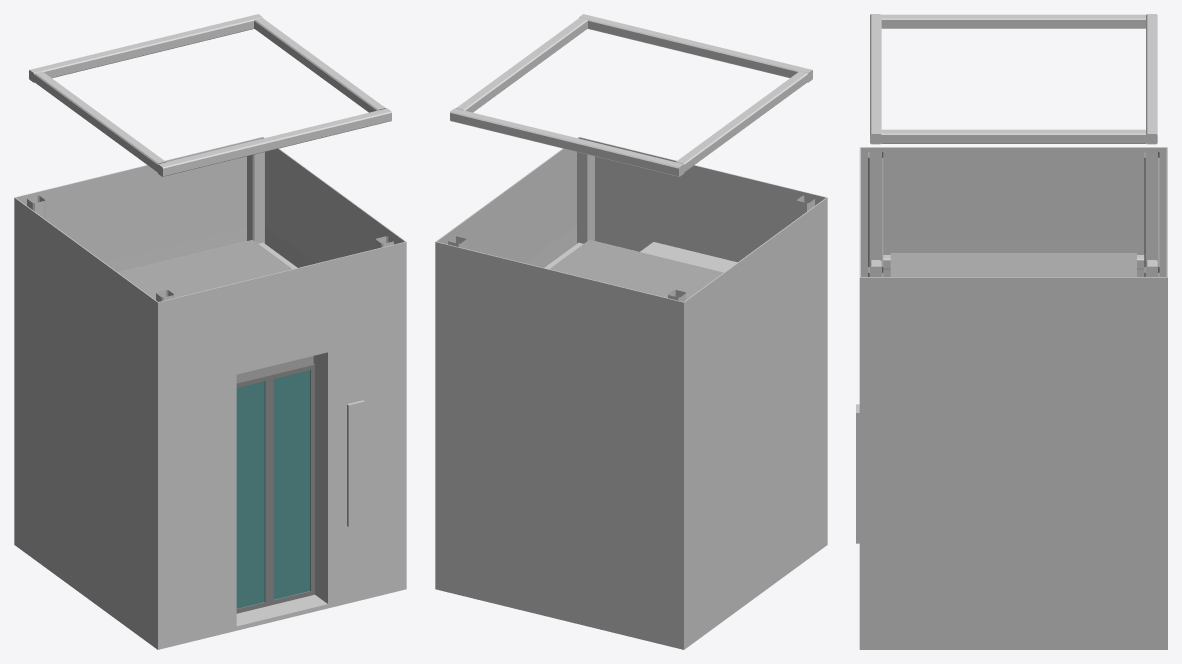
The model's file is elevator.fbx.
The picture shows the model from 3 angles, left to right: view 1: azimuth 30°, elevation 25°; view 2: azimuth 150°, elevation 25°; view 3: azimuth 270°, elevation 25°; orthographic projection. The views are drawn at different scales.
Parts seen in each view (by area): view 1: outside(glass), glass, steel bar, outerdoor1, outerdoor2, steelframe, boday, outer pannel, steelbar(V); view 2: outside(glass), glass, steel bar, boday, steelbar(V), steelframe; view 3: outside(glass), glass, steel bar, boday, steelbar(V), outer pannel.
Boxes of the visible parts, box(x1,y1,x2,y2) form: outside(glass): box(14, 225, 406, 649); glass: box(14, 137, 406, 389); steel bar: box(29, 14, 391, 176); outerdoor1: box(268, 363, 314, 605); outerdoor2: box(236, 374, 269, 613); steelframe: box(232, 347, 331, 631); boday: box(118, 240, 313, 381); outer pannel: box(347, 400, 364, 526); steelbar(V): box(27, 152, 393, 301); outside(glass): box(435, 225, 827, 649); glass: box(435, 137, 827, 389); steel bar: box(450, 14, 812, 176); boday: box(549, 240, 723, 299); steelbar(V): box(448, 152, 814, 301); steelframe: box(640, 242, 737, 272); outside(glass): box(859, 240, 1167, 649); glass: box(859, 147, 1167, 370); steel bar: box(870, 14, 1157, 144); boday: box(890, 253, 1136, 276); steelbar(V): box(868, 151, 1159, 276); outer pannel: box(856, 404, 859, 543).
Bounding box in the file's own units: 3000 × 5487 × 3036.
